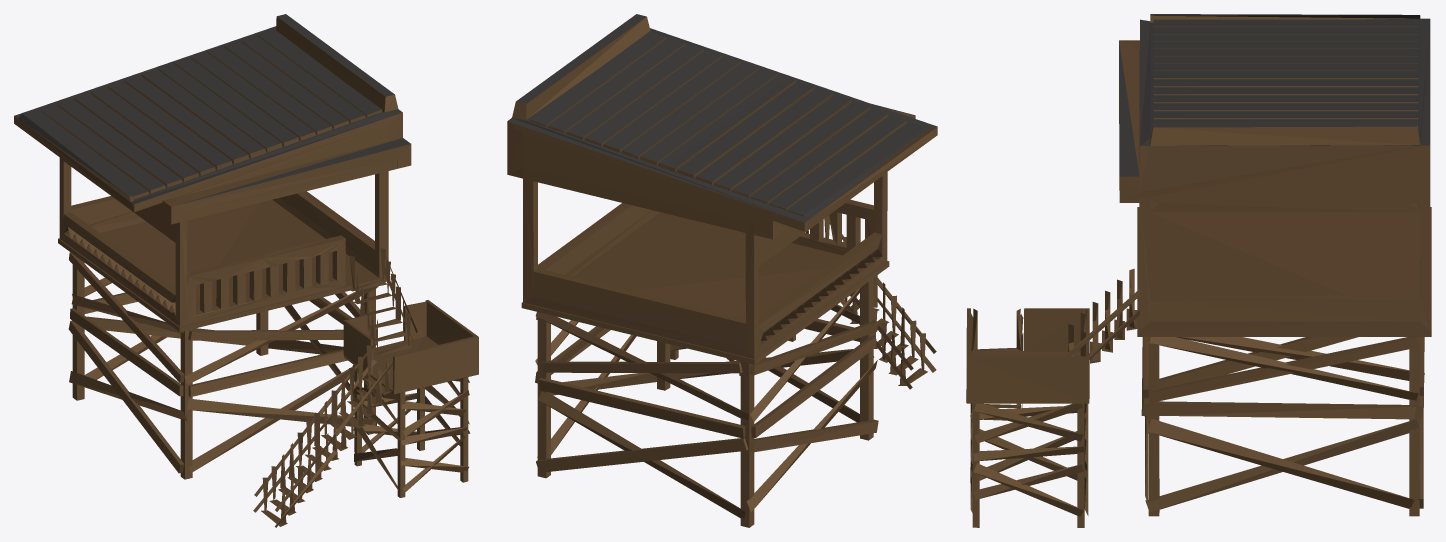
File: lookout.zfix-v1.lod1.glb
3 renders of one model, left to right at view 1: azimuth 30°, elevation 25°; view 2: azimuth 150°, elevation 25°; view 3: azimuth 270°, elevation 25°, orthographic. The views are drawn at different scales.
Parts seen in each view (by area): view 1: Cube__0; view 2: Cube__0; view 3: Cube__0.
Part boxes in pixels (left/top/right/bottom): Cube__0: left=14, top=14, right=478, bottom=527; Cube__0: left=507, top=14, right=937, bottom=527; Cube__0: left=966, top=14, right=1431, bottom=527.
Bounding box in the file's own units: 6.01 × 7 × 7.33.
